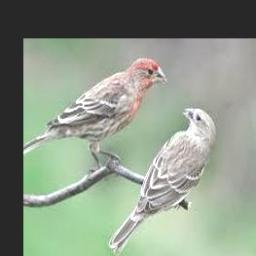Sparrow: (108, 108, 216, 255), (23, 58, 166, 169)
